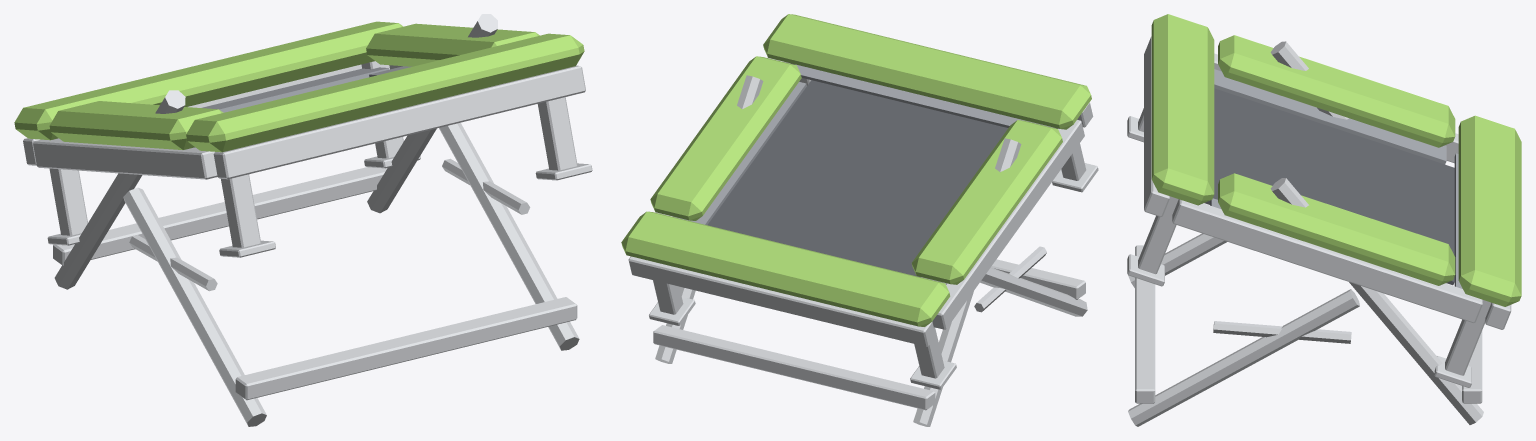
Rendered from trampoline-park-and-soft-play-angled-trampoline-module-87bb764f__34608.glb.
The picture shows the model from 3 angles, left to right: view 1: azimuth 30°, elevation 25°; view 2: azimuth 150°, elevation 25°; view 3: azimuth 270°, elevation 25°; orthographic projection. The views are drawn at different scales.
Visible parts, largest first — view 1: angled-trampoline-module; view 2: angled-trampoline-module; view 3: angled-trampoline-module.
Part boxes in pixels (bbox=[...]): angled-trampoline-module: bbox=[14, 14, 592, 426]; angled-trampoline-module: bbox=[621, 14, 1098, 426]; angled-trampoline-module: bbox=[1127, 14, 1521, 426].
Bounding box in the file's own units: 1.94 × 1.46 × 1.95.
